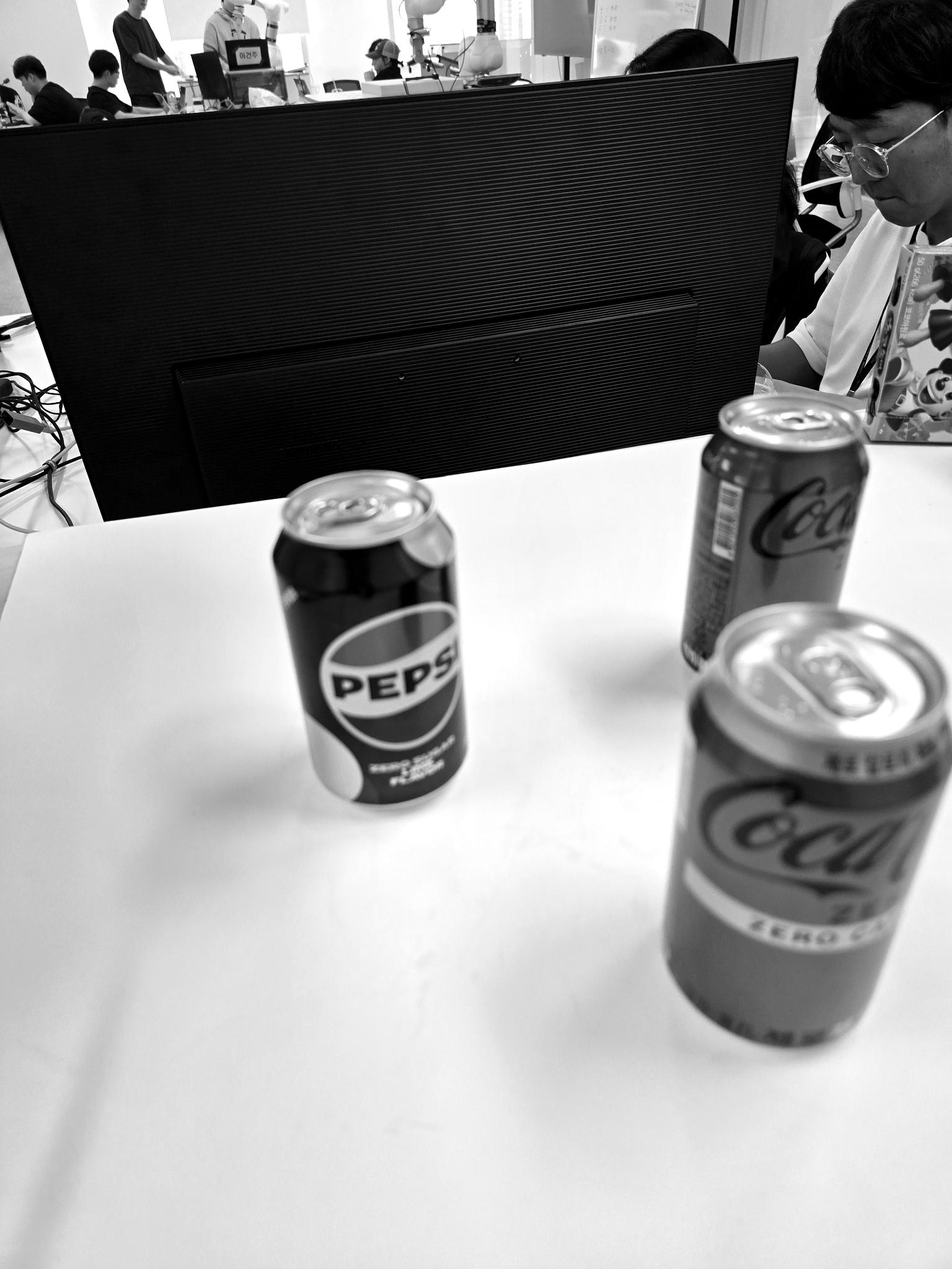can_coke_decaf: (654, 605, 952, 1046)
can_coke_zero: (676, 392, 873, 694)
can_pepsi_zero: (270, 467, 473, 816)
